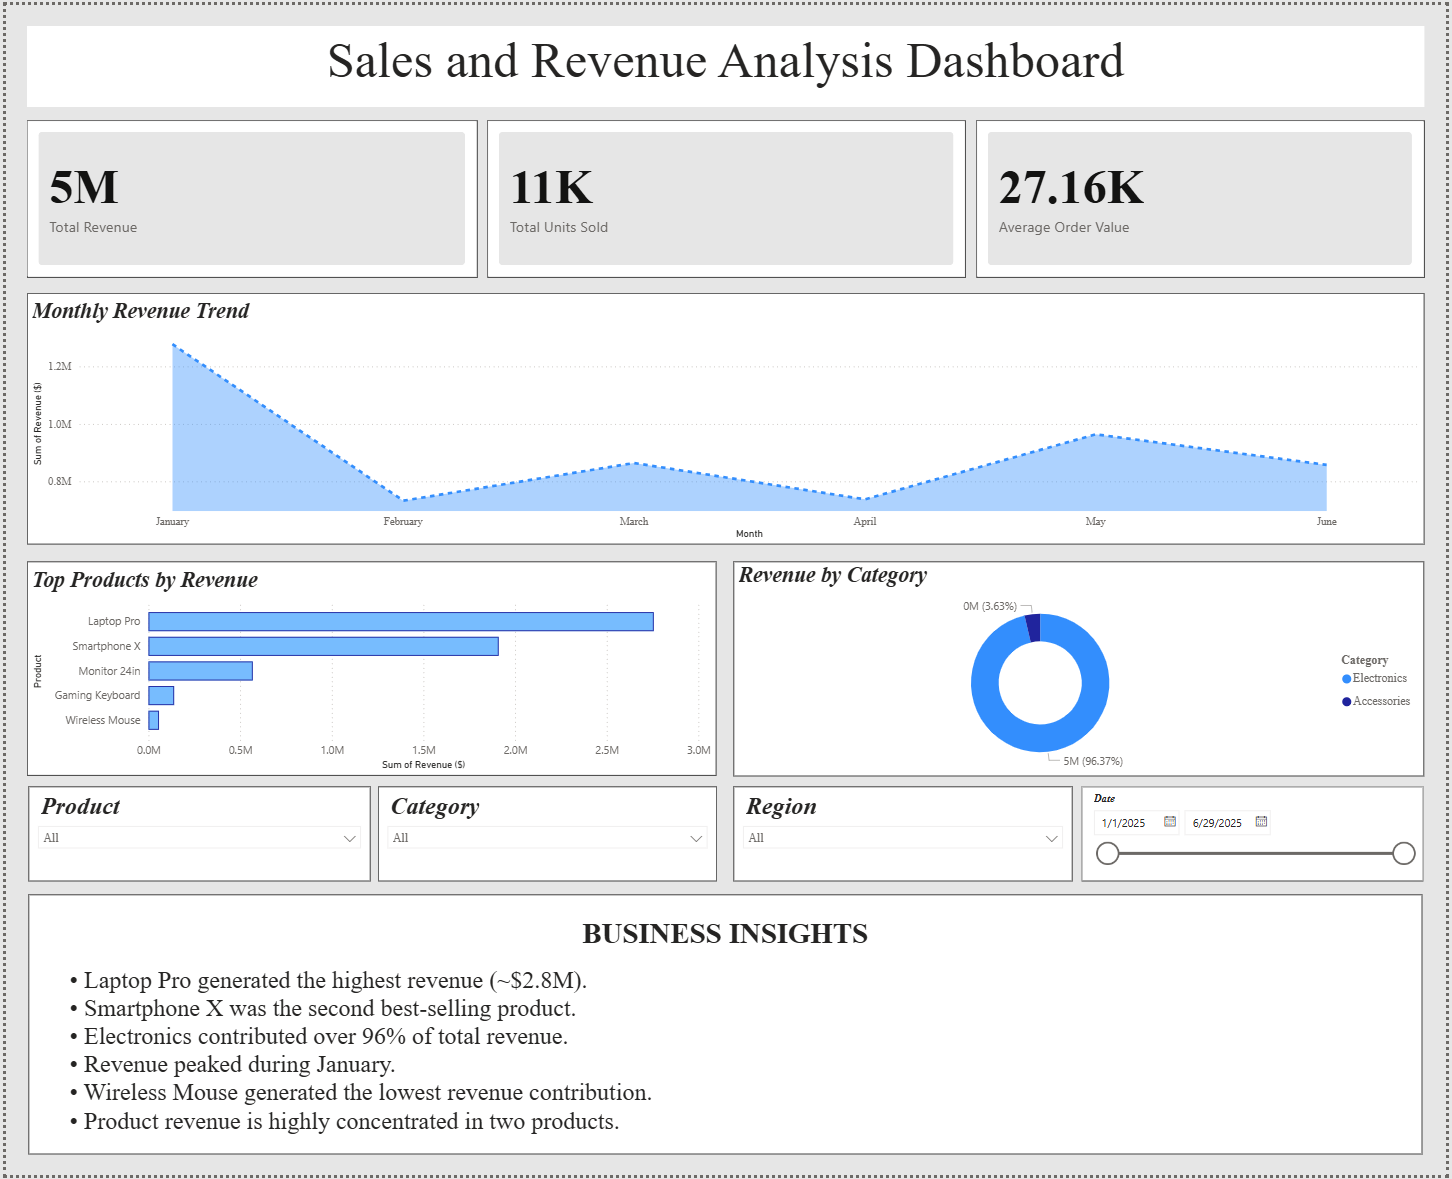

The dashboard page shown, as its layout file describes it:
{"tool":"powerbi","page":{"name":"Page 1","canvas":[1600,1300],"ordinal":0},"visuals":[{"type":"cardVisual","fields":{"Data":["SalesData.Total Units Sold"]},"box":[535.8,129,531.2,174.5],"z":0},{"type":"cardVisual","fields":{"Data":["SalesData.Average Order Value"]},"box":[1077.6,129,497.8,174.5],"z":1000},{"type":"lineChart","title":"Monthly Revenue Trend","fields":{"Category":["SalesData.Date.Variation.Date Hierarchy.Month","SalesData.Date.Variation.Date Hierarchy.Day"],"Y":["Sum(SalesData.Revenue ($))"]},"box":[22.8,320.2,1552.6,279.3],"z":2000},{"type":"clusteredBarChart","title":"Top Products by Revenue","fields":{"Category":["SalesData.Product"],"Y":["Sum(SalesData.Revenue ($))"]},"box":[24,618,766,238],"z":3000},{"type":"donutChart","title":"Revenue by Category","fields":{"Category":["SalesData.Category"],"Y":["Sum(SalesData.Revenue ($))"]},"box":[807.5,617.5,767.5,238.8],"z":4000},{"type":"slicer","fields":{"Values":["SalesData.Region"]},"box":[808.3,868.3,376.7,105],"z":5000},{"type":"slicer","fields":{"Values":["SalesData.Product"]},"box":[25,868.3,380,105],"z":6000},{"type":"slicer","fields":{"Values":["SalesData.Category"]},"box":[413.3,868.3,376.7,105],"z":7000},{"type":"slicer","fields":{"Values":["SalesData.Date"]},"box":[1194.4,868.9,380,105.6],"z":8000},{"type":"cardVisual","fields":{"Data":["SalesData.Total Revenue"]},"box":[22.8,129,500.8,174.5],"z":9000},{"type":"textbox","box":[22.5,22.5,1552.5,90],"z":9001},{"type":"textbox","box":[25.7,988.6,1548.6,288.6],"z":9002}]}

Visuals, with their boxes in screenshot pixels (x1, y1, x2, y2), scaled from the page's 1600x1300 canvas onto the 1452x1179 screenshot:
cardVisual - SalesData.Total Units Sold: box=[486, 117, 968, 275]
cardVisual - SalesData.Average Order Value: box=[978, 117, 1430, 275]
"Monthly Revenue Trend" lineChart: box=[21, 290, 1430, 544]
"Top Products by Revenue" clusteredBarChart: box=[22, 560, 717, 776]
"Revenue by Category" donutChart: box=[733, 560, 1429, 777]
slicer - SalesData.Region: box=[734, 787, 1075, 883]
slicer - SalesData.Product: box=[23, 787, 368, 883]
slicer - SalesData.Category: box=[375, 787, 717, 883]
slicer - SalesData.Date: box=[1084, 788, 1429, 884]
cardVisual - SalesData.Total Revenue: box=[21, 117, 475, 275]
textbox: box=[20, 20, 1429, 102]
textbox: box=[23, 897, 1429, 1158]
